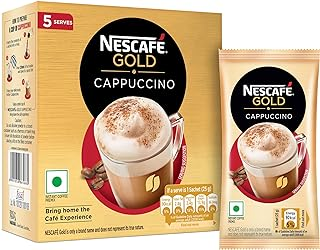Coffee: (2, 7, 220, 233), (220, 48, 319, 250)
